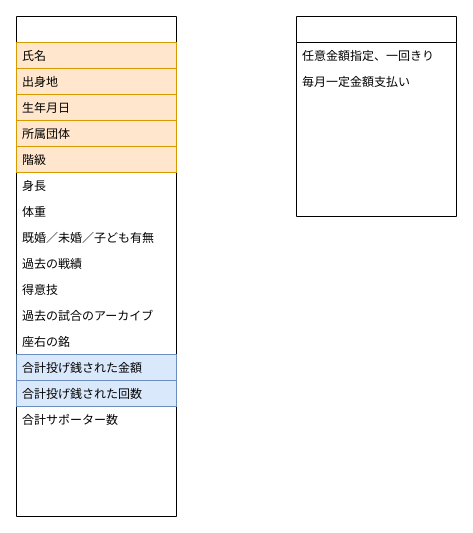
Some shapes in this 473 by 533 pixel diagram are drawn without their labels. Each missing label, with the box of its shape:
投げ銭プラン: (296, 16, 456, 216)
選手: (16, 16, 176, 516)
